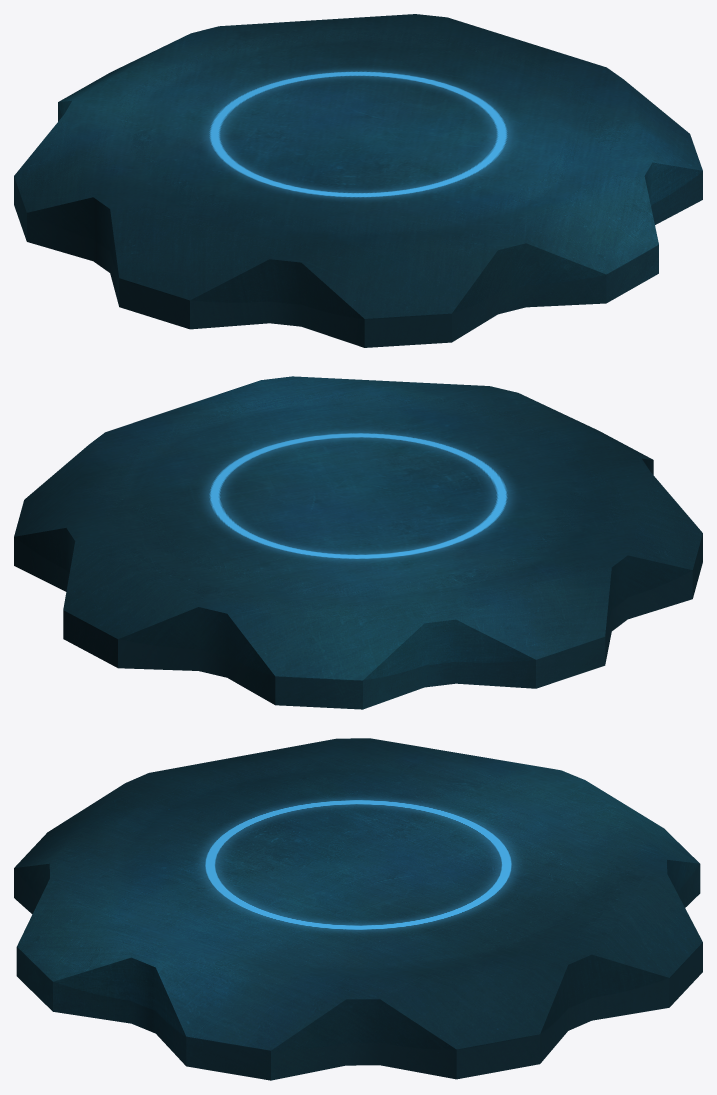
Rendered from exit_base.fbx.
The picture shows the model from 3 angles, top to bottom: view 1: azimuth 30°, elevation 25°; view 2: azimuth 150°, elevation 25°; view 3: azimuth 270°, elevation 25°; orthographic projection. The views are drawn at different scales.
Visible parts, largest first — view 1: Base; view 2: Base; view 3: Base.
Boxes of the visible parts, left/top/right/bottom form: Base: left=14, top=14, right=702, bottom=347; Base: left=14, top=376, right=702, bottom=709; Base: left=14, top=738, right=702, bottom=1080.
Bounding box in the file's own units: 99.88 × 11.21 × 99.88.
1 material, 1 textured.
